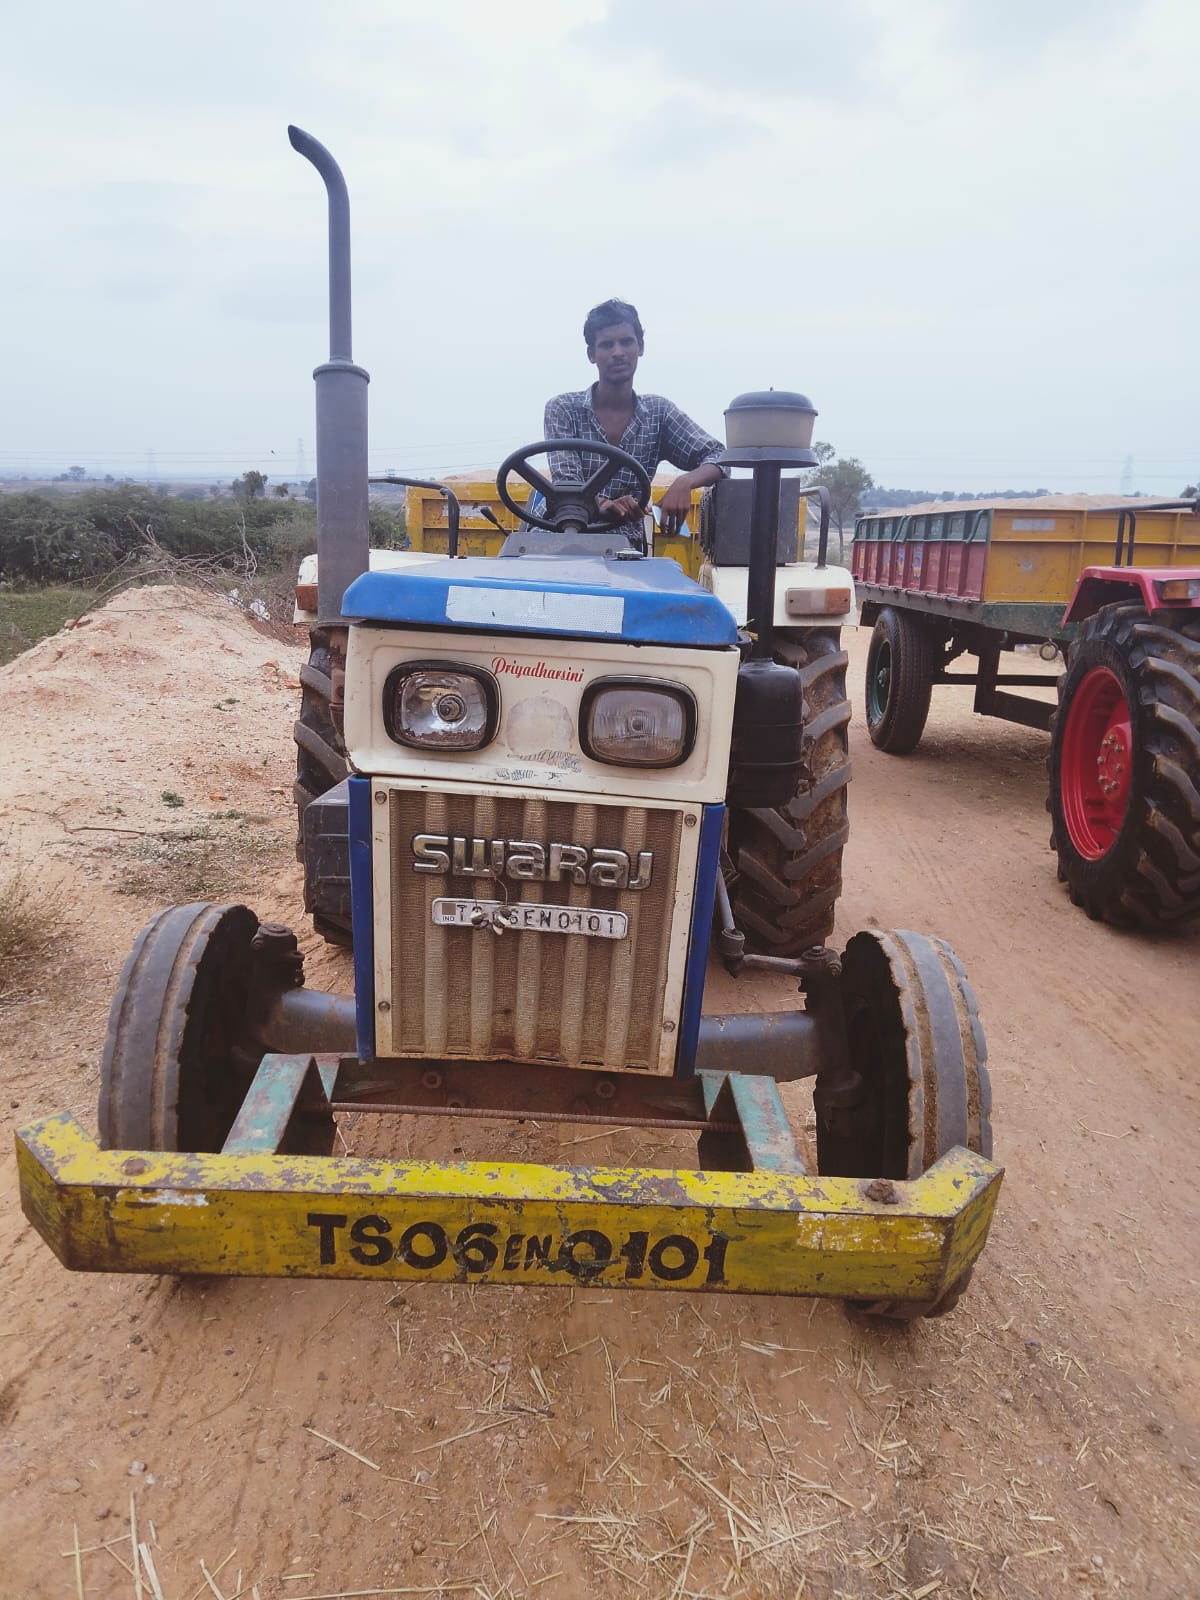license_plate: (278, 1192, 752, 1302)
